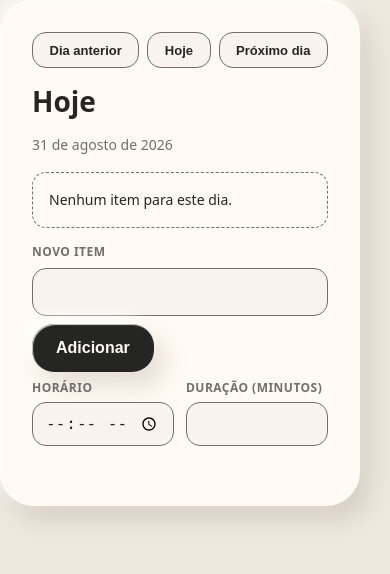
Test: DailyAgenda › navigates across a month boundary
The width and height of the screenshot is (390, 574).
Click the button "Próximo dia": x=273, y=50 [218, 32, 328, 68]
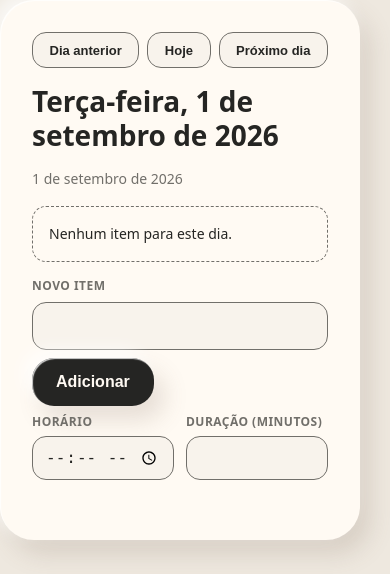
Expected: the text "1 de setembro de 2026" is shown, [32, 169, 183, 188]
